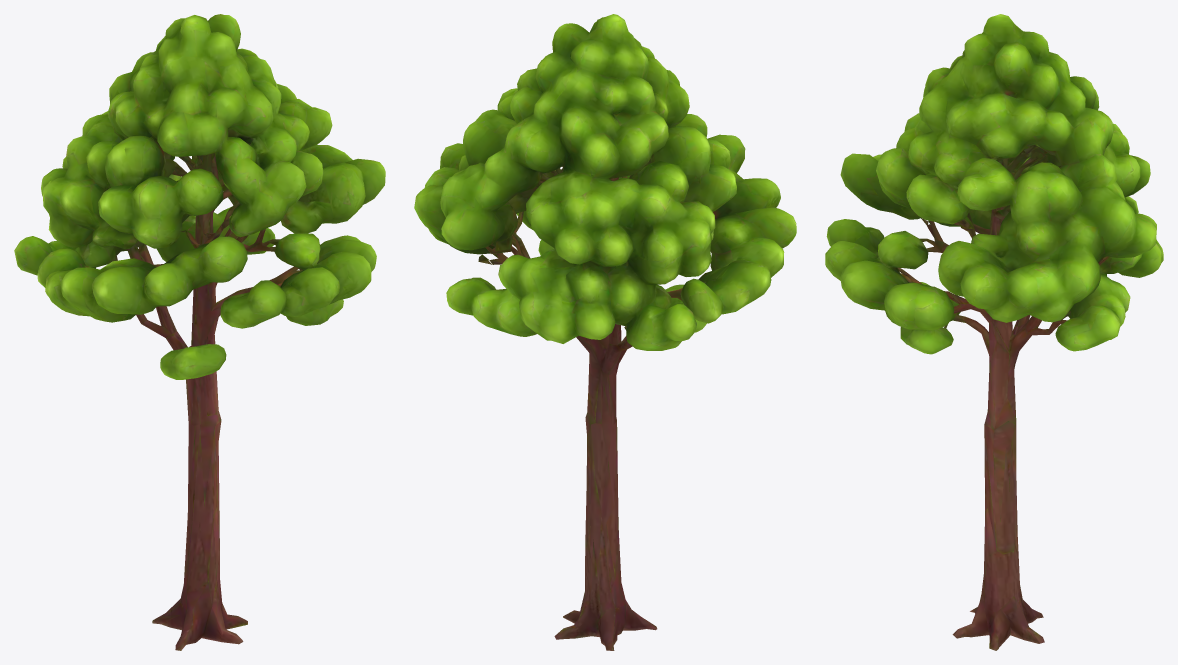
File: prop-pine-scots.glb
The picture shows the model from 3 angles, left to right: view 1: azimuth 30°, elevation 25°; view 2: azimuth 150°, elevation 25°; view 3: azimuth 270°, elevation 25°; orthographic projection.
Bounding box in the file's own units: 1.07 × 1.91 × 0.9582.
1 material, 1 textured.
